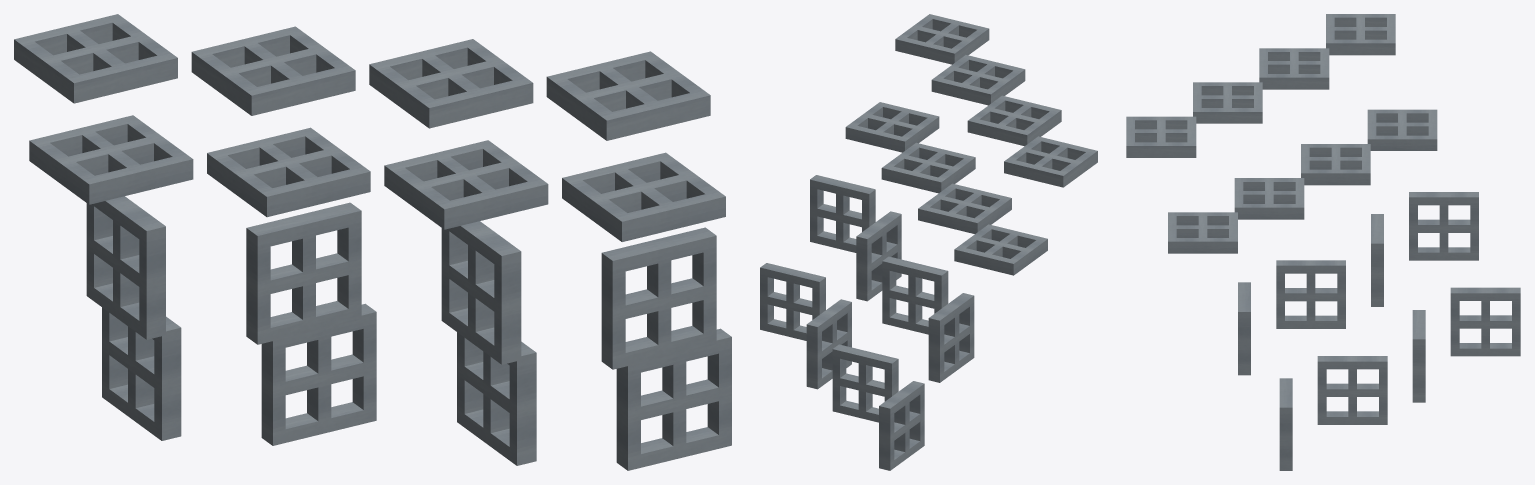
Rendered from iron_trapdoor12_raw16_endpoint_reference_atlas.glb.
3 renders of one model, left to right at view 1: azimuth 30°, elevation 25°; view 2: azimuth 150°, elevation 25°; view 3: azimuth 270°, elevation 25°, orthographic. The views are drawn at different scales.
Parts seen in each view (by area): view 1: TRAPDOOR12_raw_meta08, TRAPDOOR12_raw_meta10, TRAPDOOR12_raw_meta14, TRAPDOOR12_raw_meta12, TRAPDOOR12_raw_meta02, TRAPDOOR12_raw_meta07, TRAPDOOR12_raw_meta01, TRAPDOOR12_raw_meta00, TRAPDOOR12_raw_meta05, TRAPDOOR12_raw_meta03, TRAPDOOR12_raw_meta06, TRAPDOOR12_raw_meta04 (+4 smaller); view 2: TRAPDOOR12_raw_meta10, TRAPDOOR12_raw_meta14, TRAPDOOR12_raw_meta12, TRAPDOOR12_raw_meta08, TRAPDOOR12_raw_meta11, TRAPDOOR12_raw_meta15, TRAPDOOR12_raw_meta03, TRAPDOOR12_raw_meta07, TRAPDOOR12_raw_meta04, TRAPDOOR12_raw_meta05, TRAPDOOR12_raw_meta00, TRAPDOOR12_raw_meta02 (+4 smaller); view 3: TRAPDOOR12_raw_meta15, TRAPDOOR12_raw_meta13, TRAPDOOR12_raw_meta09, TRAPDOOR12_raw_meta11, TRAPDOOR12_raw_meta00, TRAPDOOR12_raw_meta02, TRAPDOOR12_raw_meta07, TRAPDOOR12_raw_meta05, TRAPDOOR12_raw_meta04, TRAPDOOR12_raw_meta01, TRAPDOOR12_raw_meta03, TRAPDOOR12_raw_meta06 (+4 smaller).
Part boxes in pixels (x1,y1,x2,y2): TRAPDOOR12_raw_meta08: [601, 227, 716, 369]; TRAPDOOR12_raw_meta10: [246, 202, 361, 344]; TRAPDOOR12_raw_meta14: [261, 303, 376, 445]; TRAPDOOR12_raw_meta12: [616, 328, 731, 470]; TRAPDOOR12_raw_meta02: [191, 26, 355, 115]; TRAPDOOR12_raw_meta07: [29, 115, 193, 204]; TRAPDOOR12_raw_meta01: [369, 39, 533, 128]; TRAPDOOR12_raw_meta00: [546, 51, 710, 140]; TRAPDOOR12_raw_meta05: [384, 140, 548, 229]; TRAPDOOR12_raw_meta03: [14, 14, 177, 103]; TRAPDOOR12_raw_meta06: [207, 127, 370, 217]; TRAPDOOR12_raw_meta04: [562, 152, 725, 241]; TRAPDOOR12_raw_meta10: [882, 256, 948, 334]; TRAPDOOR12_raw_meta14: [832, 344, 898, 422]; TRAPDOOR12_raw_meta12: [760, 263, 825, 340]; TRAPDOOR12_raw_meta08: [810, 175, 875, 252]; TRAPDOOR12_raw_meta11: [928, 293, 974, 382]; TRAPDOOR12_raw_meta15: [879, 381, 924, 470]; TRAPDOOR12_raw_meta03: [1004, 136, 1097, 187]; TRAPDOOR12_raw_meta07: [954, 224, 1047, 275]; TRAPDOOR12_raw_meta04: [845, 102, 939, 152]; TRAPDOOR12_raw_meta05: [881, 142, 975, 193]; TRAPDOOR12_raw_meta00: [895, 14, 989, 64]; TRAPDOOR12_raw_meta02: [967, 95, 1061, 146]; TRAPDOOR12_raw_meta15: [1450, 287, 1520, 356]; TRAPDOOR12_raw_meta13: [1317, 356, 1387, 424]; TRAPDOOR12_raw_meta09: [1276, 260, 1345, 328]; TRAPDOOR12_raw_meta11: [1409, 192, 1478, 260]; TRAPDOOR12_raw_meta00: [1126, 116, 1196, 157]; TRAPDOOR12_raw_meta02: [1259, 48, 1329, 89]; TRAPDOOR12_raw_meta07: [1367, 109, 1437, 150]; TRAPDOOR12_raw_meta05: [1234, 178, 1304, 219]; TRAPDOOR12_raw_meta04: [1168, 212, 1237, 253]; TRAPDOOR12_raw_meta01: [1193, 82, 1262, 123]; TRAPDOOR12_raw_meta03: [1326, 14, 1395, 55]; TRAPDOOR12_raw_meta06: [1301, 144, 1370, 185].
Size of the model in its own units: 5.95 by 4.45 by 5.65.
1 material, 1 textured.
